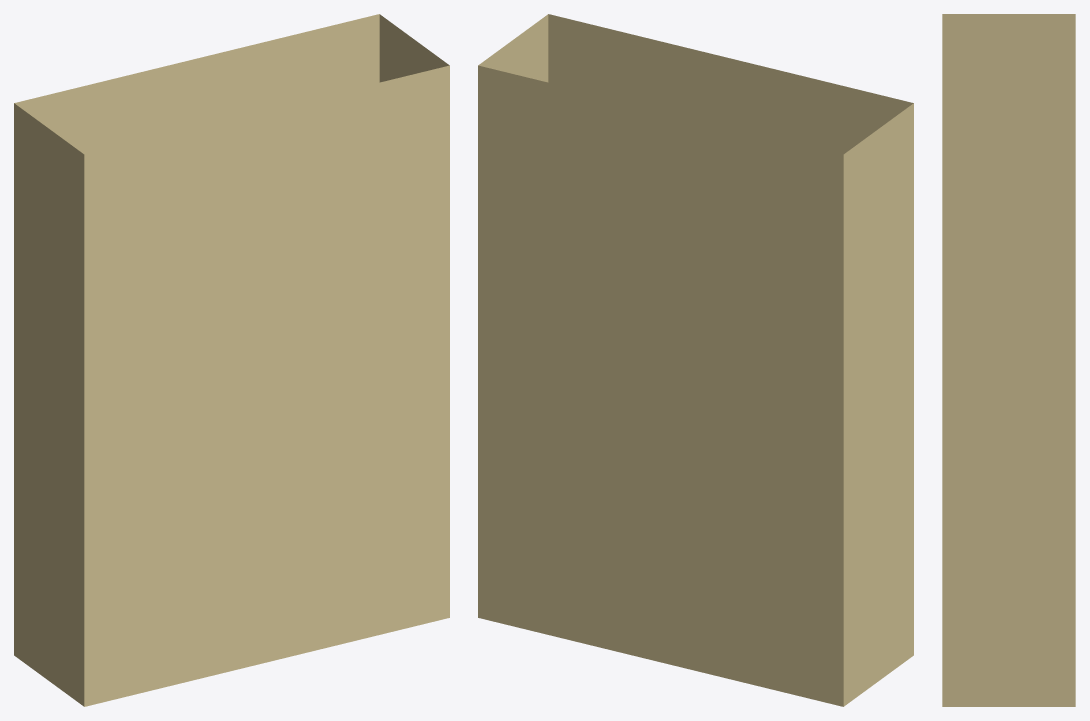
Rendered from bench_2_model.glb.
3 views of the same model, side by side, from view 1: azimuth 30°, elevation 25°; view 2: azimuth 150°, elevation 25°; view 3: azimuth 270°, elevation 25° (orthographic). The views are drawn at different scales.
Parts seen in each view (by area): view 1: front_panel, left_panel, back_panel, right_panel; view 2: back_panel, left_panel, front_panel, right_panel; view 3: right_panel, left_panel.
Boxes of the visible parts, left/top/right/bottom form: front_panel: left=84, top=65, right=449, bottom=706; left_panel: left=14, top=103, right=84, bottom=706; back_panel: left=14, top=14, right=379, bottom=154; right_panel: left=379, top=14, right=449, bottom=82; back_panel: left=478, top=65, right=843, bottom=706; left_panel: left=843, top=103, right=913, bottom=706; front_panel: left=548, top=14, right=913, bottom=154; right_panel: left=478, top=14, right=548, bottom=82; right_panel: left=942, top=183, right=1075, bottom=706; left_panel: left=942, top=14, right=1075, bottom=182.
Size of the model in its own units: 0.18 by 0.26 by 0.06.
